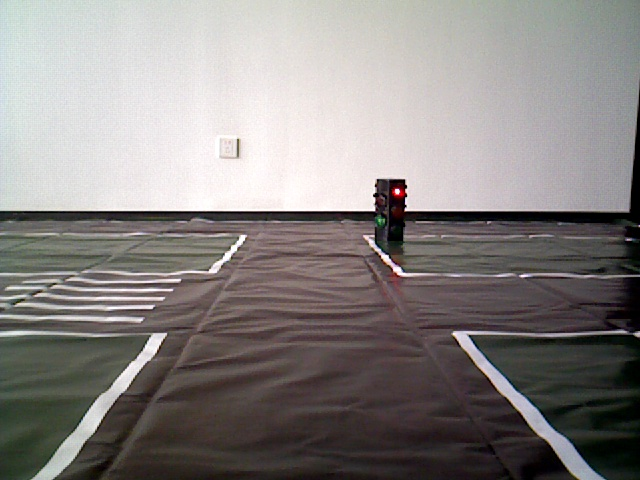red: (376, 178, 406, 253)
